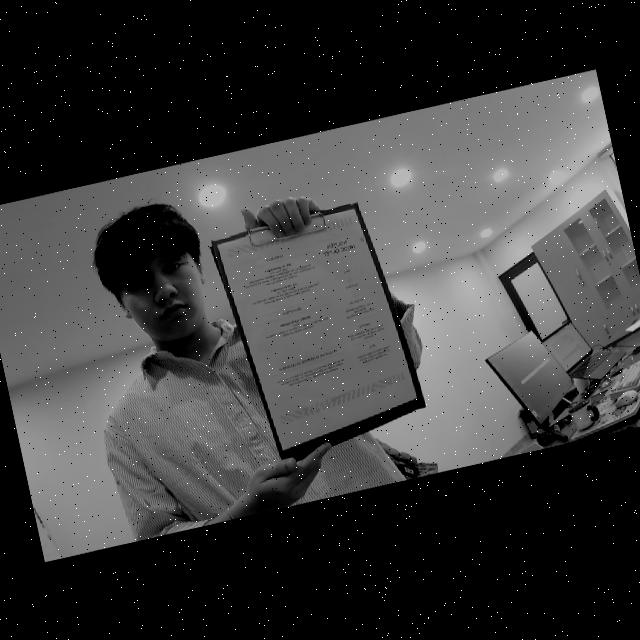document: (217, 208, 416, 450)
face: (111, 225, 212, 349)
